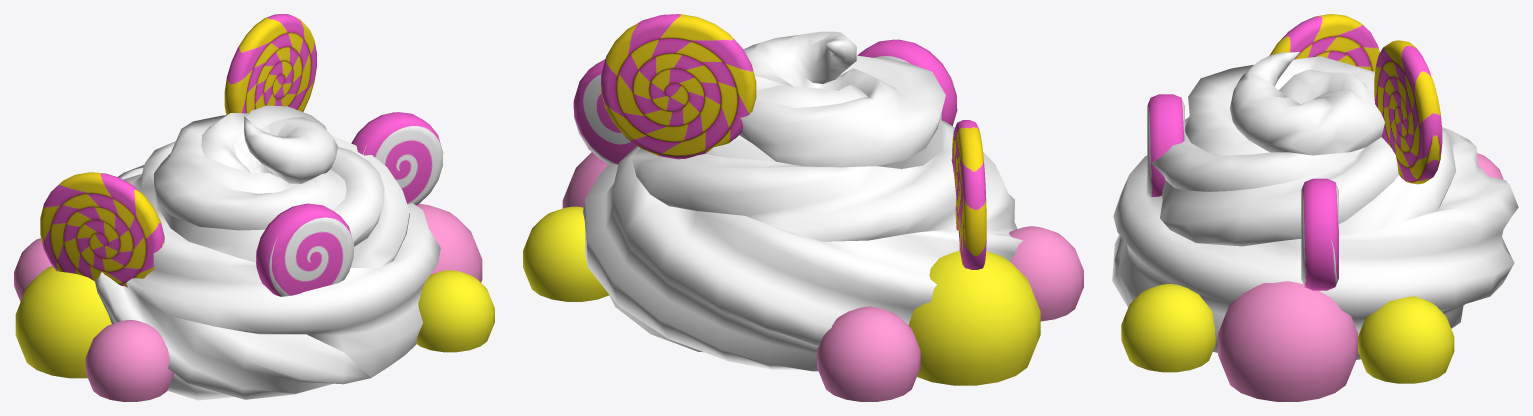
File: Cake_ThemeCandy_H.FBX
3 views of the same model, side by side, from view 1: azimuth 30°, elevation 25°; view 2: azimuth 150°, elevation 25°; view 3: azimuth 270°, elevation 25° (orthographic). The views are drawn at different scales.
Visible parts, largest first — view 1: Cake_ThemeCandy_H; view 2: Cake_ThemeCandy_H; view 3: Cake_ThemeCandy_H.
Boxes of the visible parts, x1,y1,x2,y2 form: Cake_ThemeCandy_H: (14,14,494,401); Cake_ThemeCandy_H: (523,14,1083,401); Cake_ThemeCandy_H: (1112,14,1518,401).
Bounding box in the file's own units: 115002 × 70898 × 89601.
